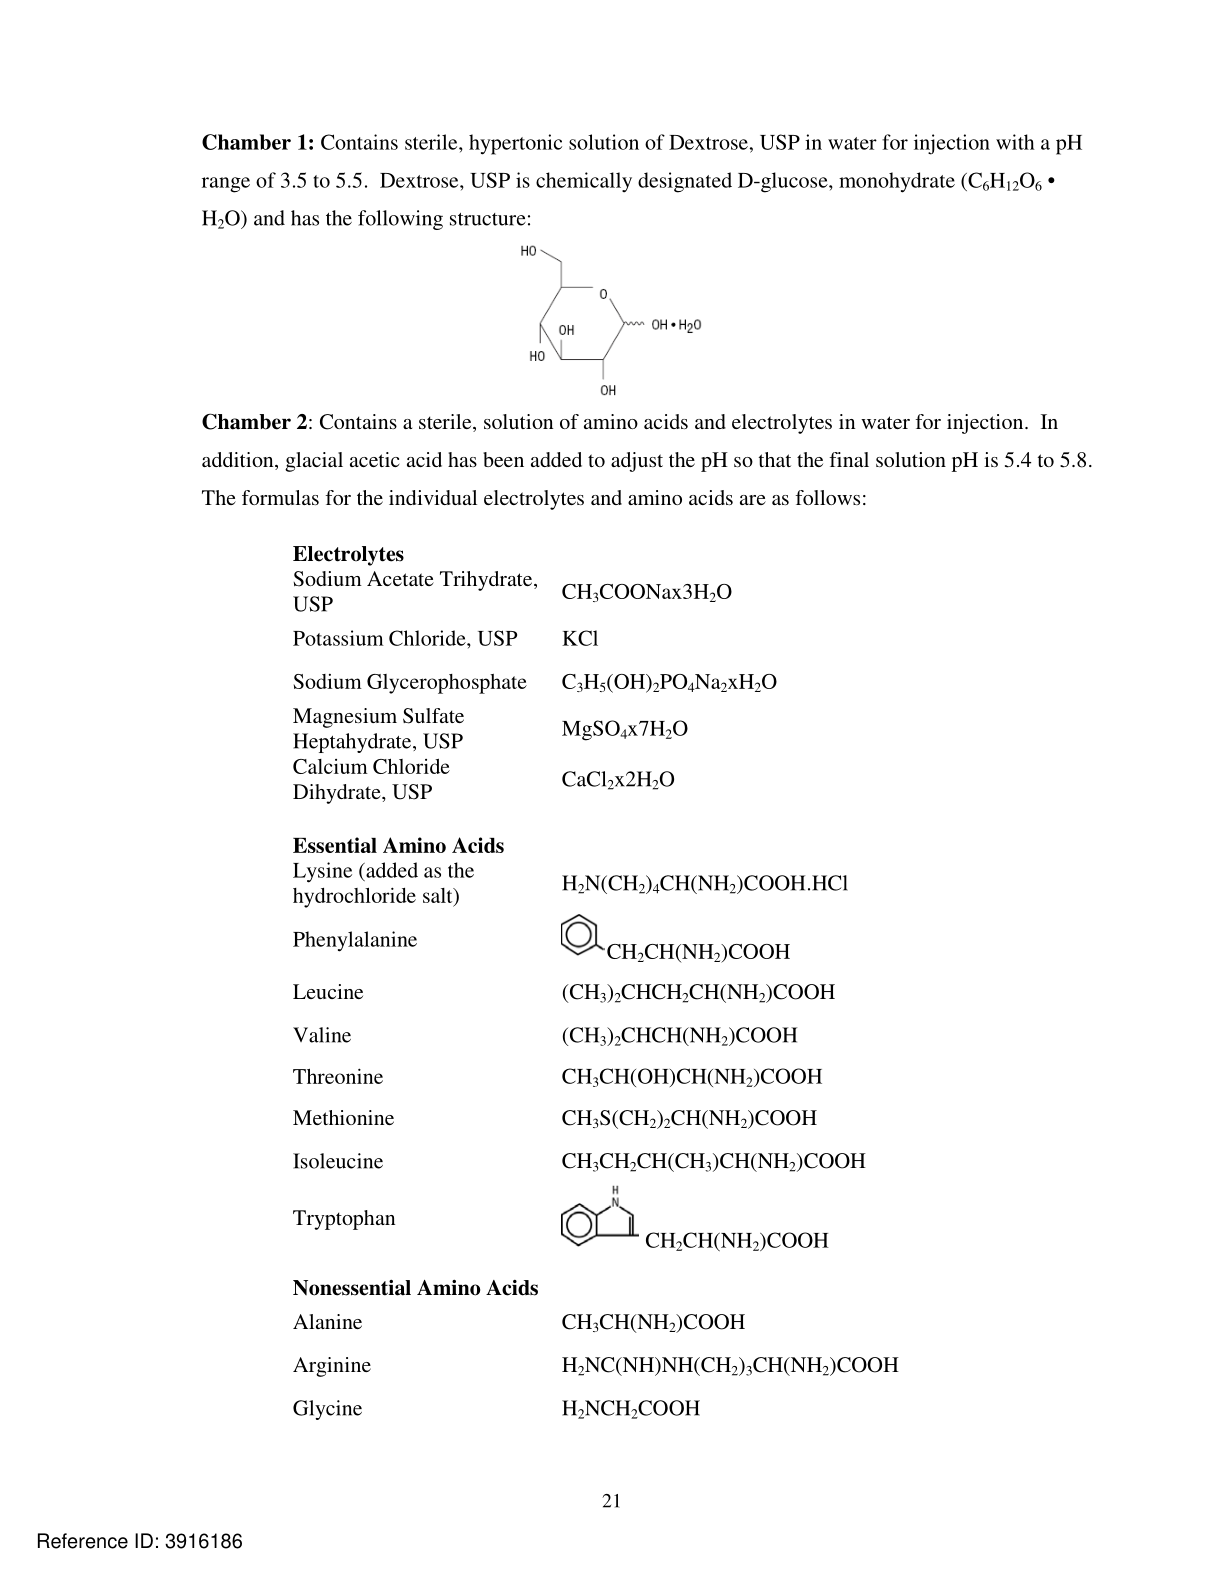nolines: (292, 541, 900, 1425)
